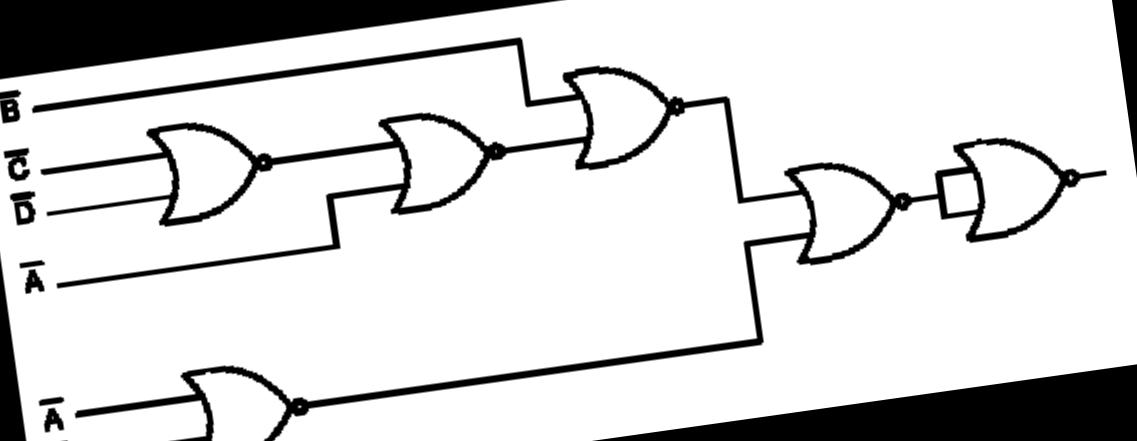nor: (774, 141, 926, 274), (134, 101, 286, 233), (944, 120, 1093, 249), (552, 46, 697, 177), (368, 94, 518, 220), (172, 347, 321, 441)
